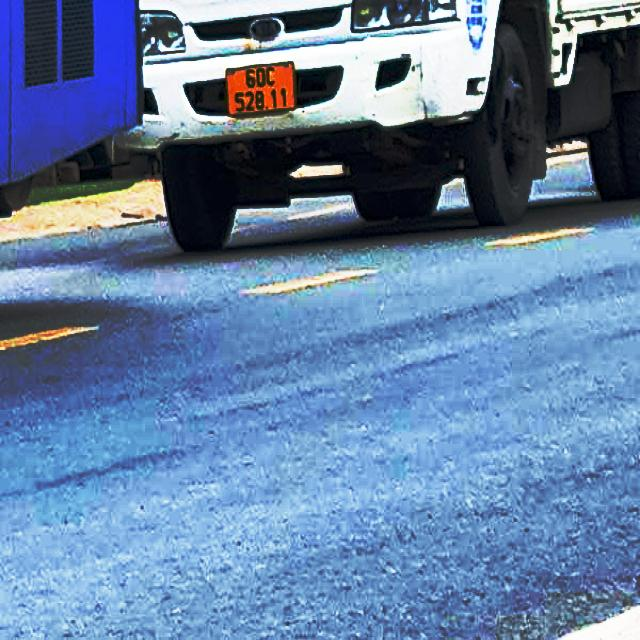license_plate: (228, 64, 297, 121)
